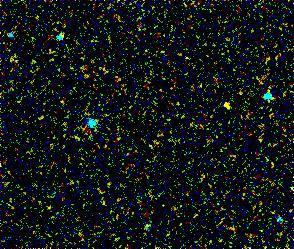star: (215, 90, 245, 120)
